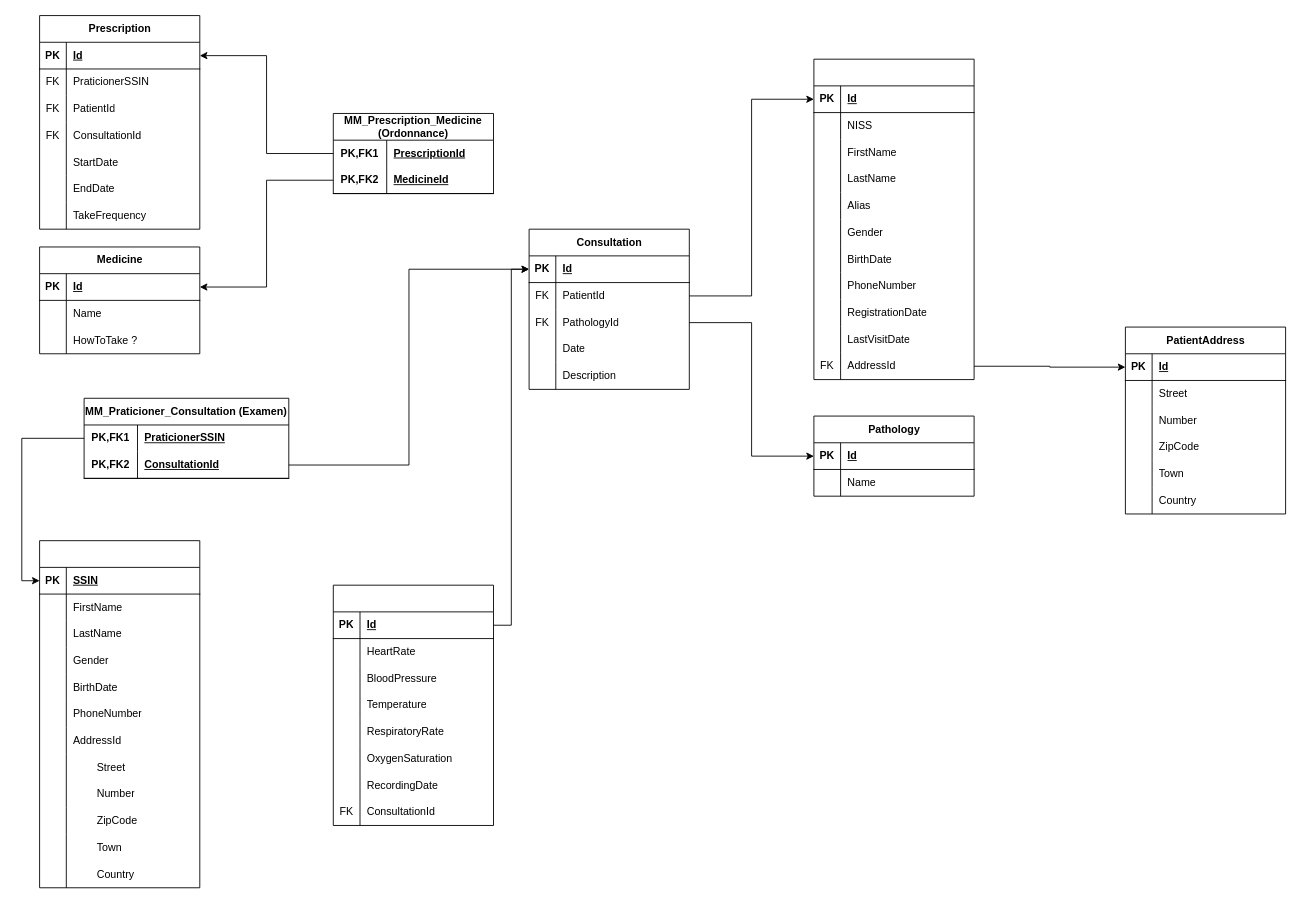
Some shapes in this 1301 by 903 pixel diagram are drawn without their labels. Each missing label, with the box of its shape:
Patient: (813, 58, 974, 380)
Praticioner: (39, 540, 200, 888)
VitalSignsMonitoring: (332, 584, 494, 825)
